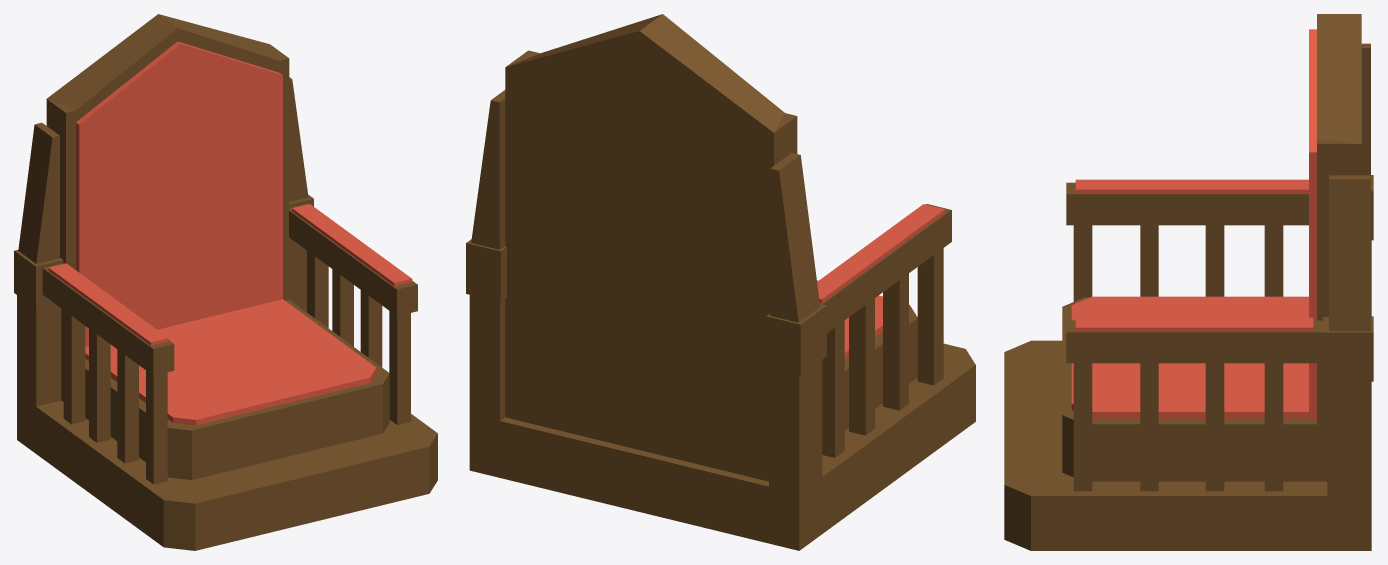
File: Noble_Seat2.fbx
3 renders of one model, left to right at view 1: azimuth 30°, elevation 25°; view 2: azimuth 150°, elevation 25°; view 3: azimuth 270°, elevation 25°, orthographic. The views are drawn at different scales.
Parts seen in each view (by area): view 1: Noble_Seat2; view 2: Noble_Seat2; view 3: Noble_Seat2.
Boxes of the visible parts, box(x1,y1,x2,y2) form: Noble_Seat2: box(14, 14, 437, 550); Noble_Seat2: box(466, 14, 975, 550); Noble_Seat2: box(1004, 14, 1373, 550).
Bounding box in the file's own units: 115 × 157 × 114.
